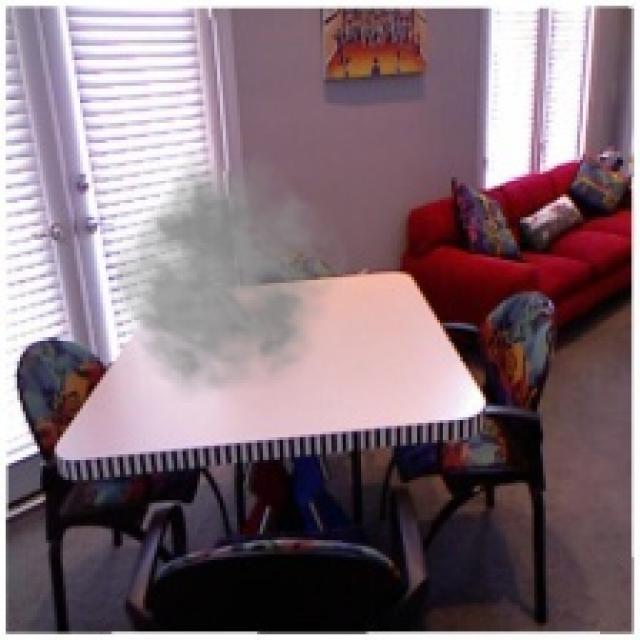Smoke: (115, 146, 352, 403)
